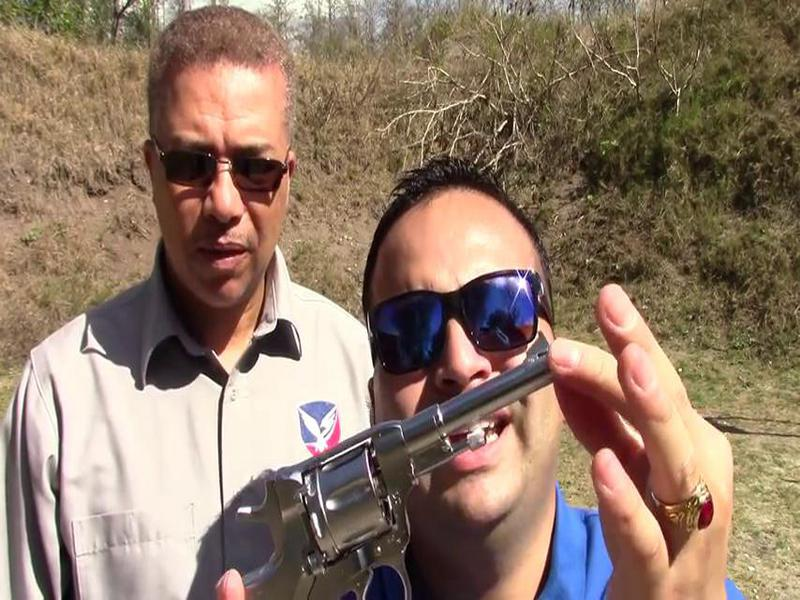Revolver: (237, 319, 588, 600)
